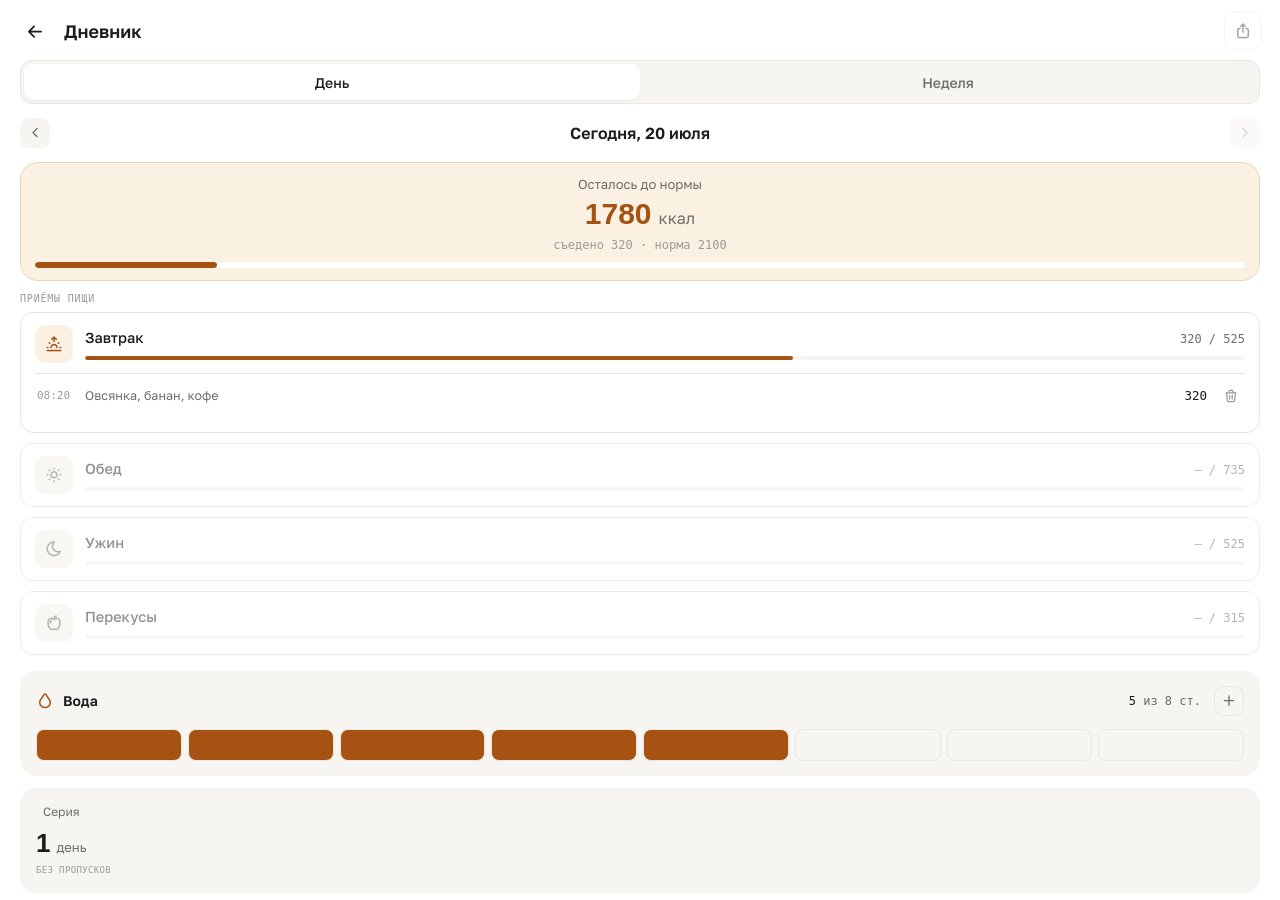
DiaryScreen — удаление единственного приёма › после удаления серия и итог дня согласованы со списком
This screenshot has width=1280, height=900.
Expected: the element titled "Серия" is shown, [20,788,1260,892]
Click the button named "Удалить приём": (1231, 396) [1217,382,1245,410]
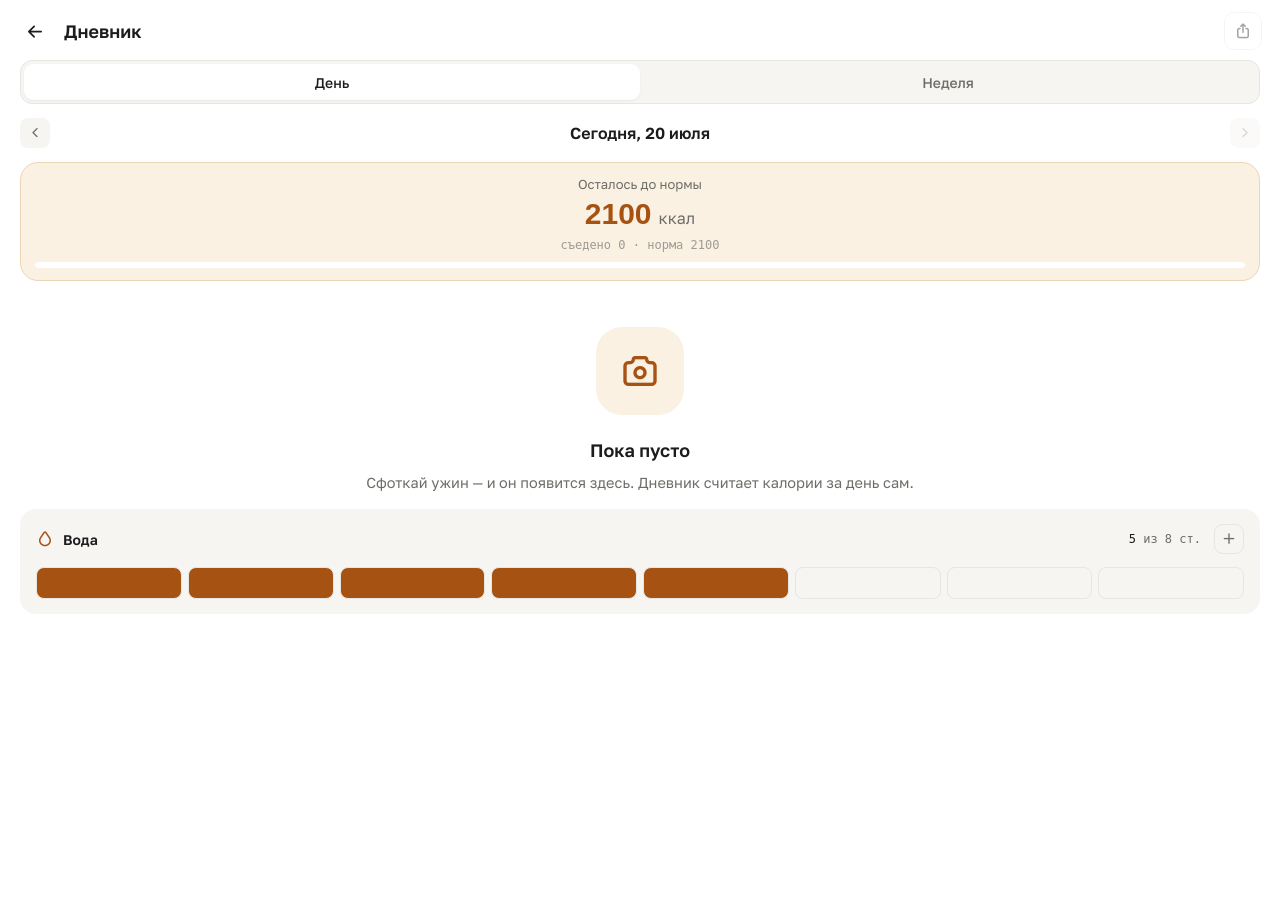
Now the text titled "Серия" is gone
